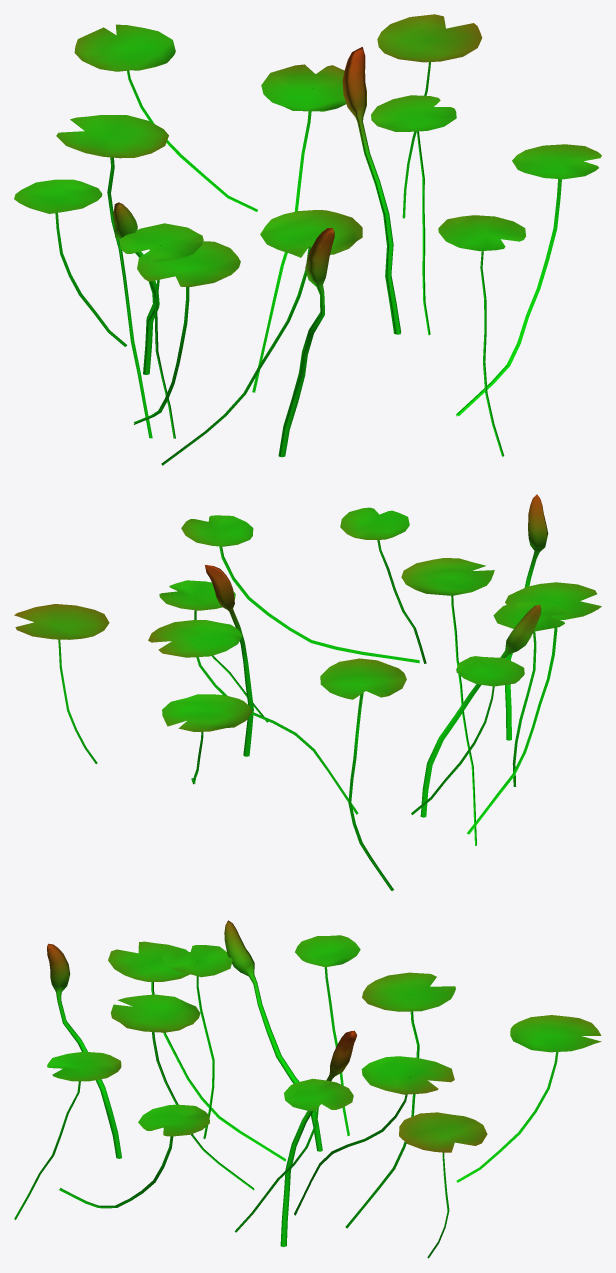
Rendered from uc2jdibia_Var3_LOD0.fbx.
3 renders of one model, top to bottom at view 1: azimuth 30°, elevation 25°; view 2: azimuth 150°, elevation 25°; view 3: azimuth 270°, elevation 25°, orthographic. The views are drawn at different scales.
Parts seen in each view (by area): view 1: _67f6_Var3_LOD0; view 2: _67f6_Var3_LOD0; view 3: _67f6_Var3_LOD0.
Boxes of the visible parts, left/top/right/bottom form: _67f6_Var3_LOD0: left=14, top=14, right=601, bottom=465; _67f6_Var3_LOD0: left=14, top=494, right=601, bottom=891; _67f6_Var3_LOD0: left=14, top=920, right=601, bottom=1258.
Size of the model in its own units: 133 by 81.73 by 152.
